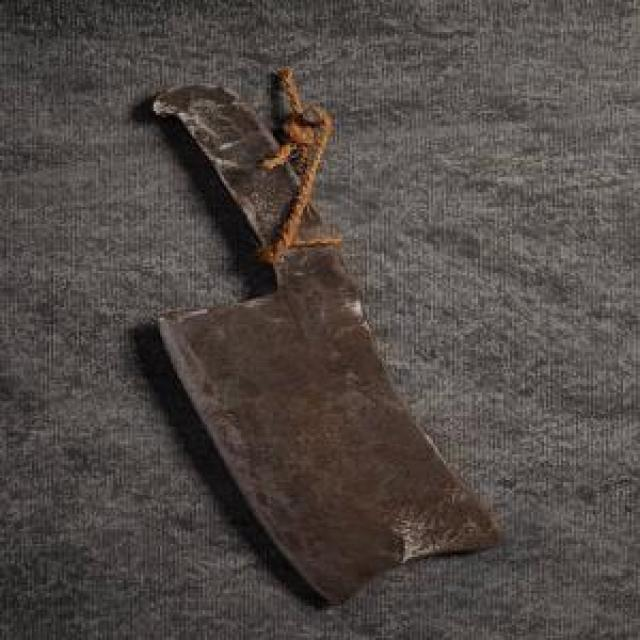knife: (143, 77, 515, 618)
